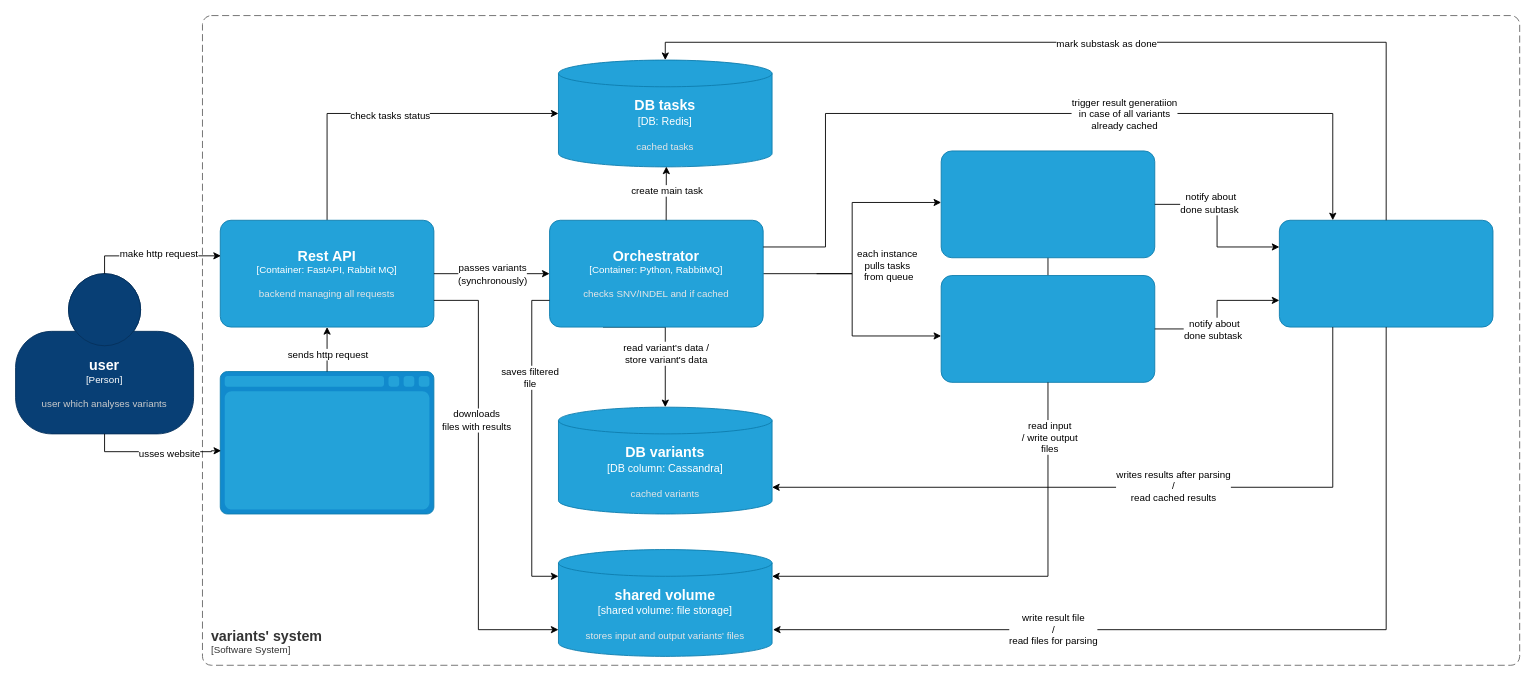
This 1535x681 diagram has some shape labels left out. Here are the shapes that lost their labels. From the top down, the centre of each, then its label:
At (1047,204): "alg1 worker [Container: python] n instance of alg1".
At (1385,273): "TSV parser [Container: python] parses files with variants".
At (1047,328): "alg M worker [Container: python] n instance of alg m".
At (326,442): "Single-Page application [Container: VueJS] website to manage tasks".
